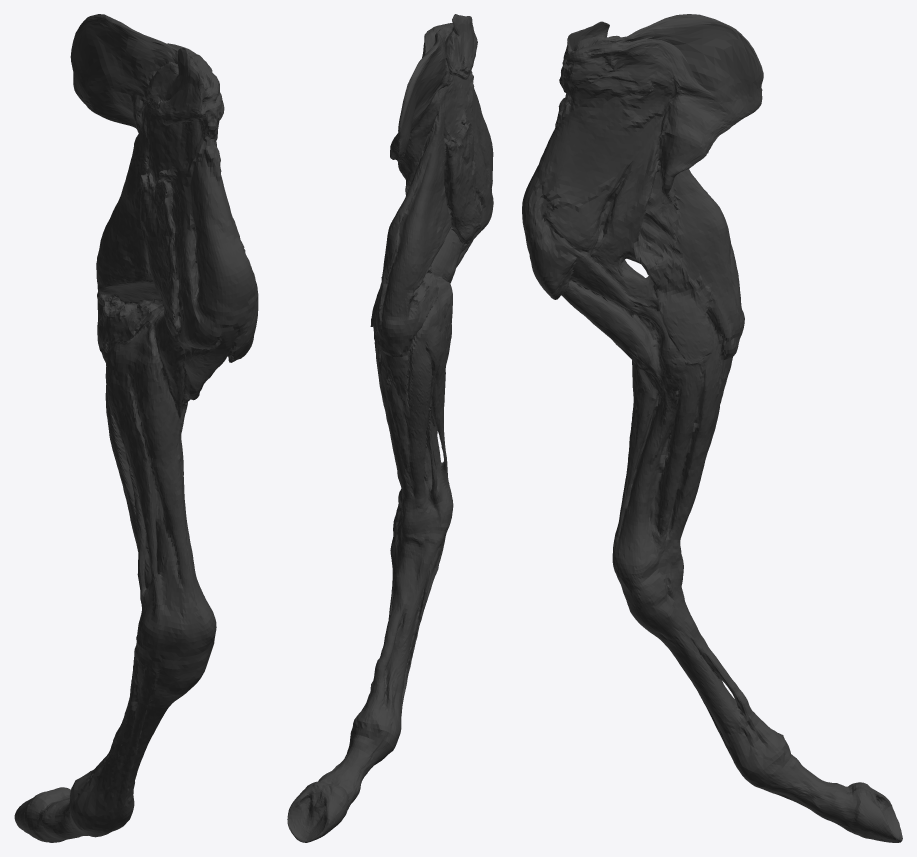
File: ZBrushPolyMesh3D.glb
3 views of the same model, side by side, from view 1: azimuth 30°, elevation 25°; view 2: azimuth 150°, elevation 25°; view 3: azimuth 270°, elevation 25° (orthographic). The views are drawn at different scales.
Parts seen in each view (by area): view 1: ZBrushPolyMesh3D; view 2: ZBrushPolyMesh3D; view 3: ZBrushPolyMesh3D.
Part boxes in pixels (x1,y1,x2,y2): ZBrushPolyMesh3D: (14,14,258,842); ZBrushPolyMesh3D: (287,14,493,842); ZBrushPolyMesh3D: (522,14,902,842).
Bounding box in the file's own units: 8.07 × 89.02 × 37.91.
Materials: 1 (1 with a texture image).
